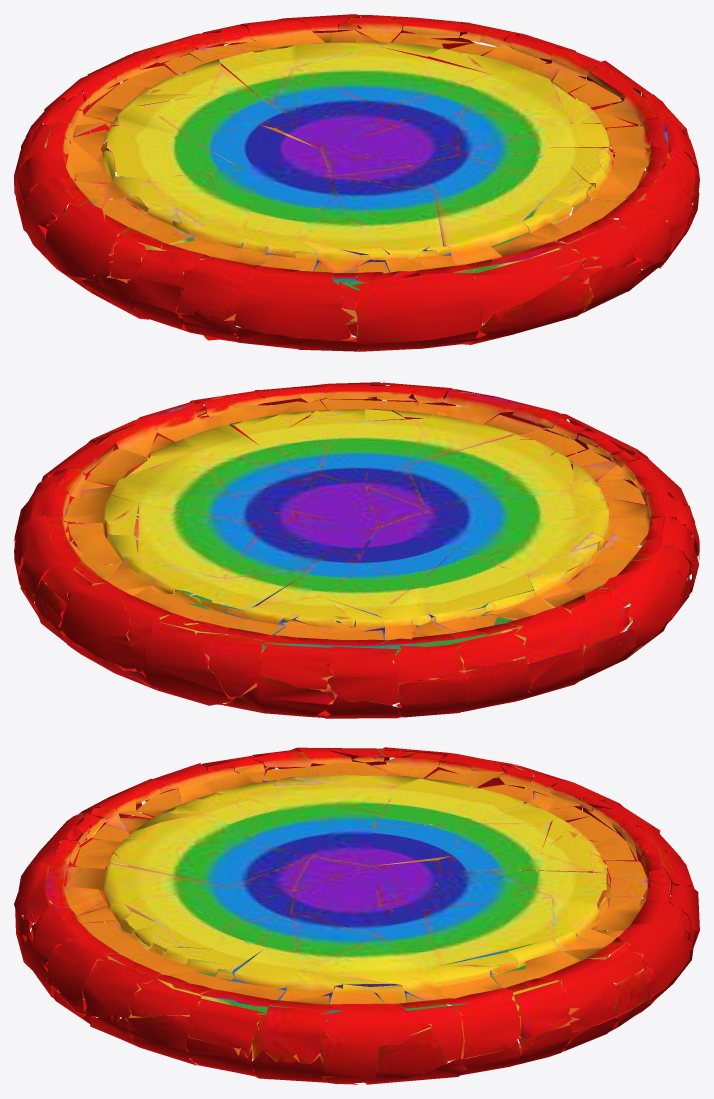
Rendered from meshy-pan-frisbee.glb.
3 renders of one model, top to bottom at view 1: azimuth 30°, elevation 25°; view 2: azimuth 150°, elevation 25°; view 3: azimuth 270°, elevation 25°, orthographic.
Parts seen in each view (by area): view 1: Mesh_0; view 2: Mesh_0; view 3: Mesh_0.
Part boxes in pixels (box(x1,y1,x2,y2)): Mesh_0: box(14, 14, 699, 351); Mesh_0: box(14, 381, 699, 718); Mesh_0: box(14, 747, 699, 1084).
Size of the model in its own units: 1.9 by 0.248 by 1.91.
Materials: 1 (1 with a texture image).
